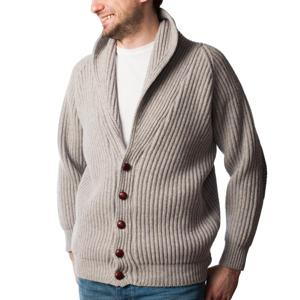C_cardigan sweater: (51, 32, 271, 285)
